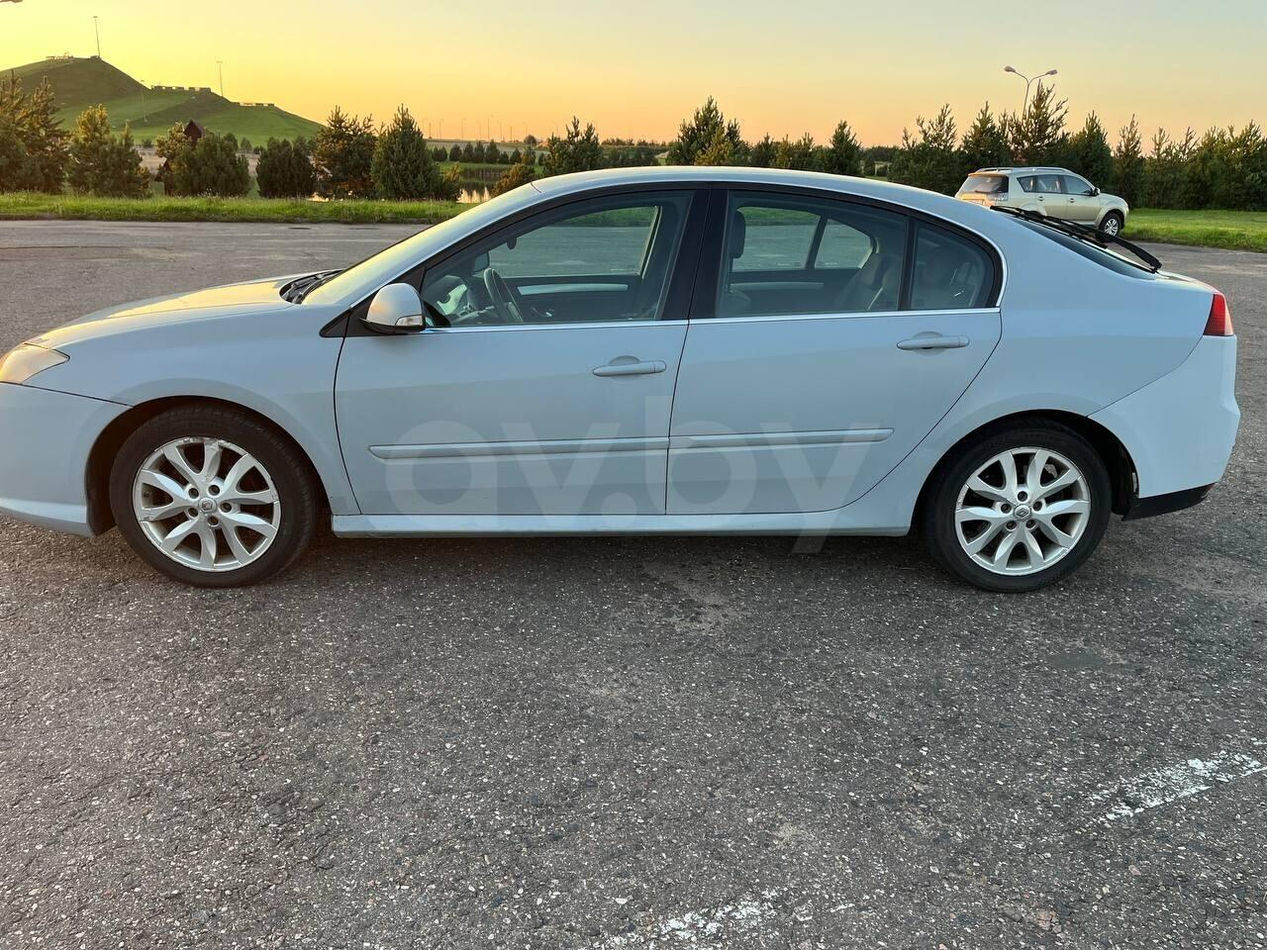Laguna_2007-2011: (0, 166, 1239, 591)
